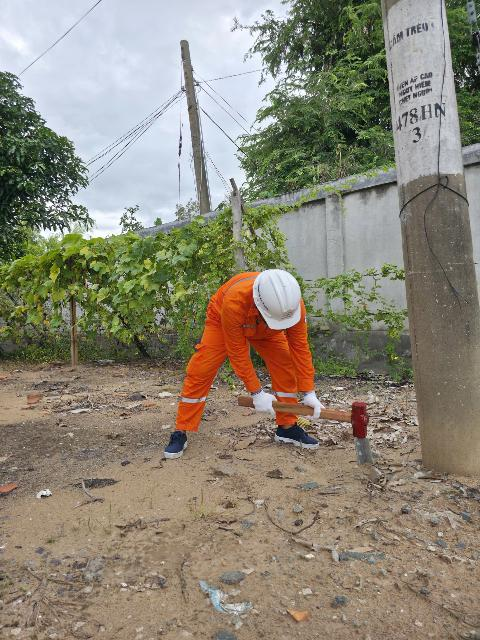gloves: (296, 389, 332, 420), (249, 392, 279, 420)
helmet: (250, 268, 309, 338)
shoes: (154, 423, 192, 464), (274, 422, 317, 455)
